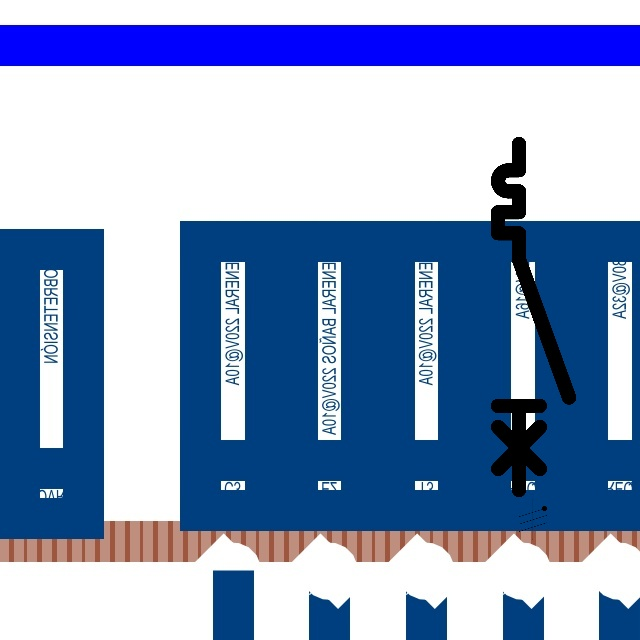interruptor_termomagnetico: (489, 135, 578, 499)
